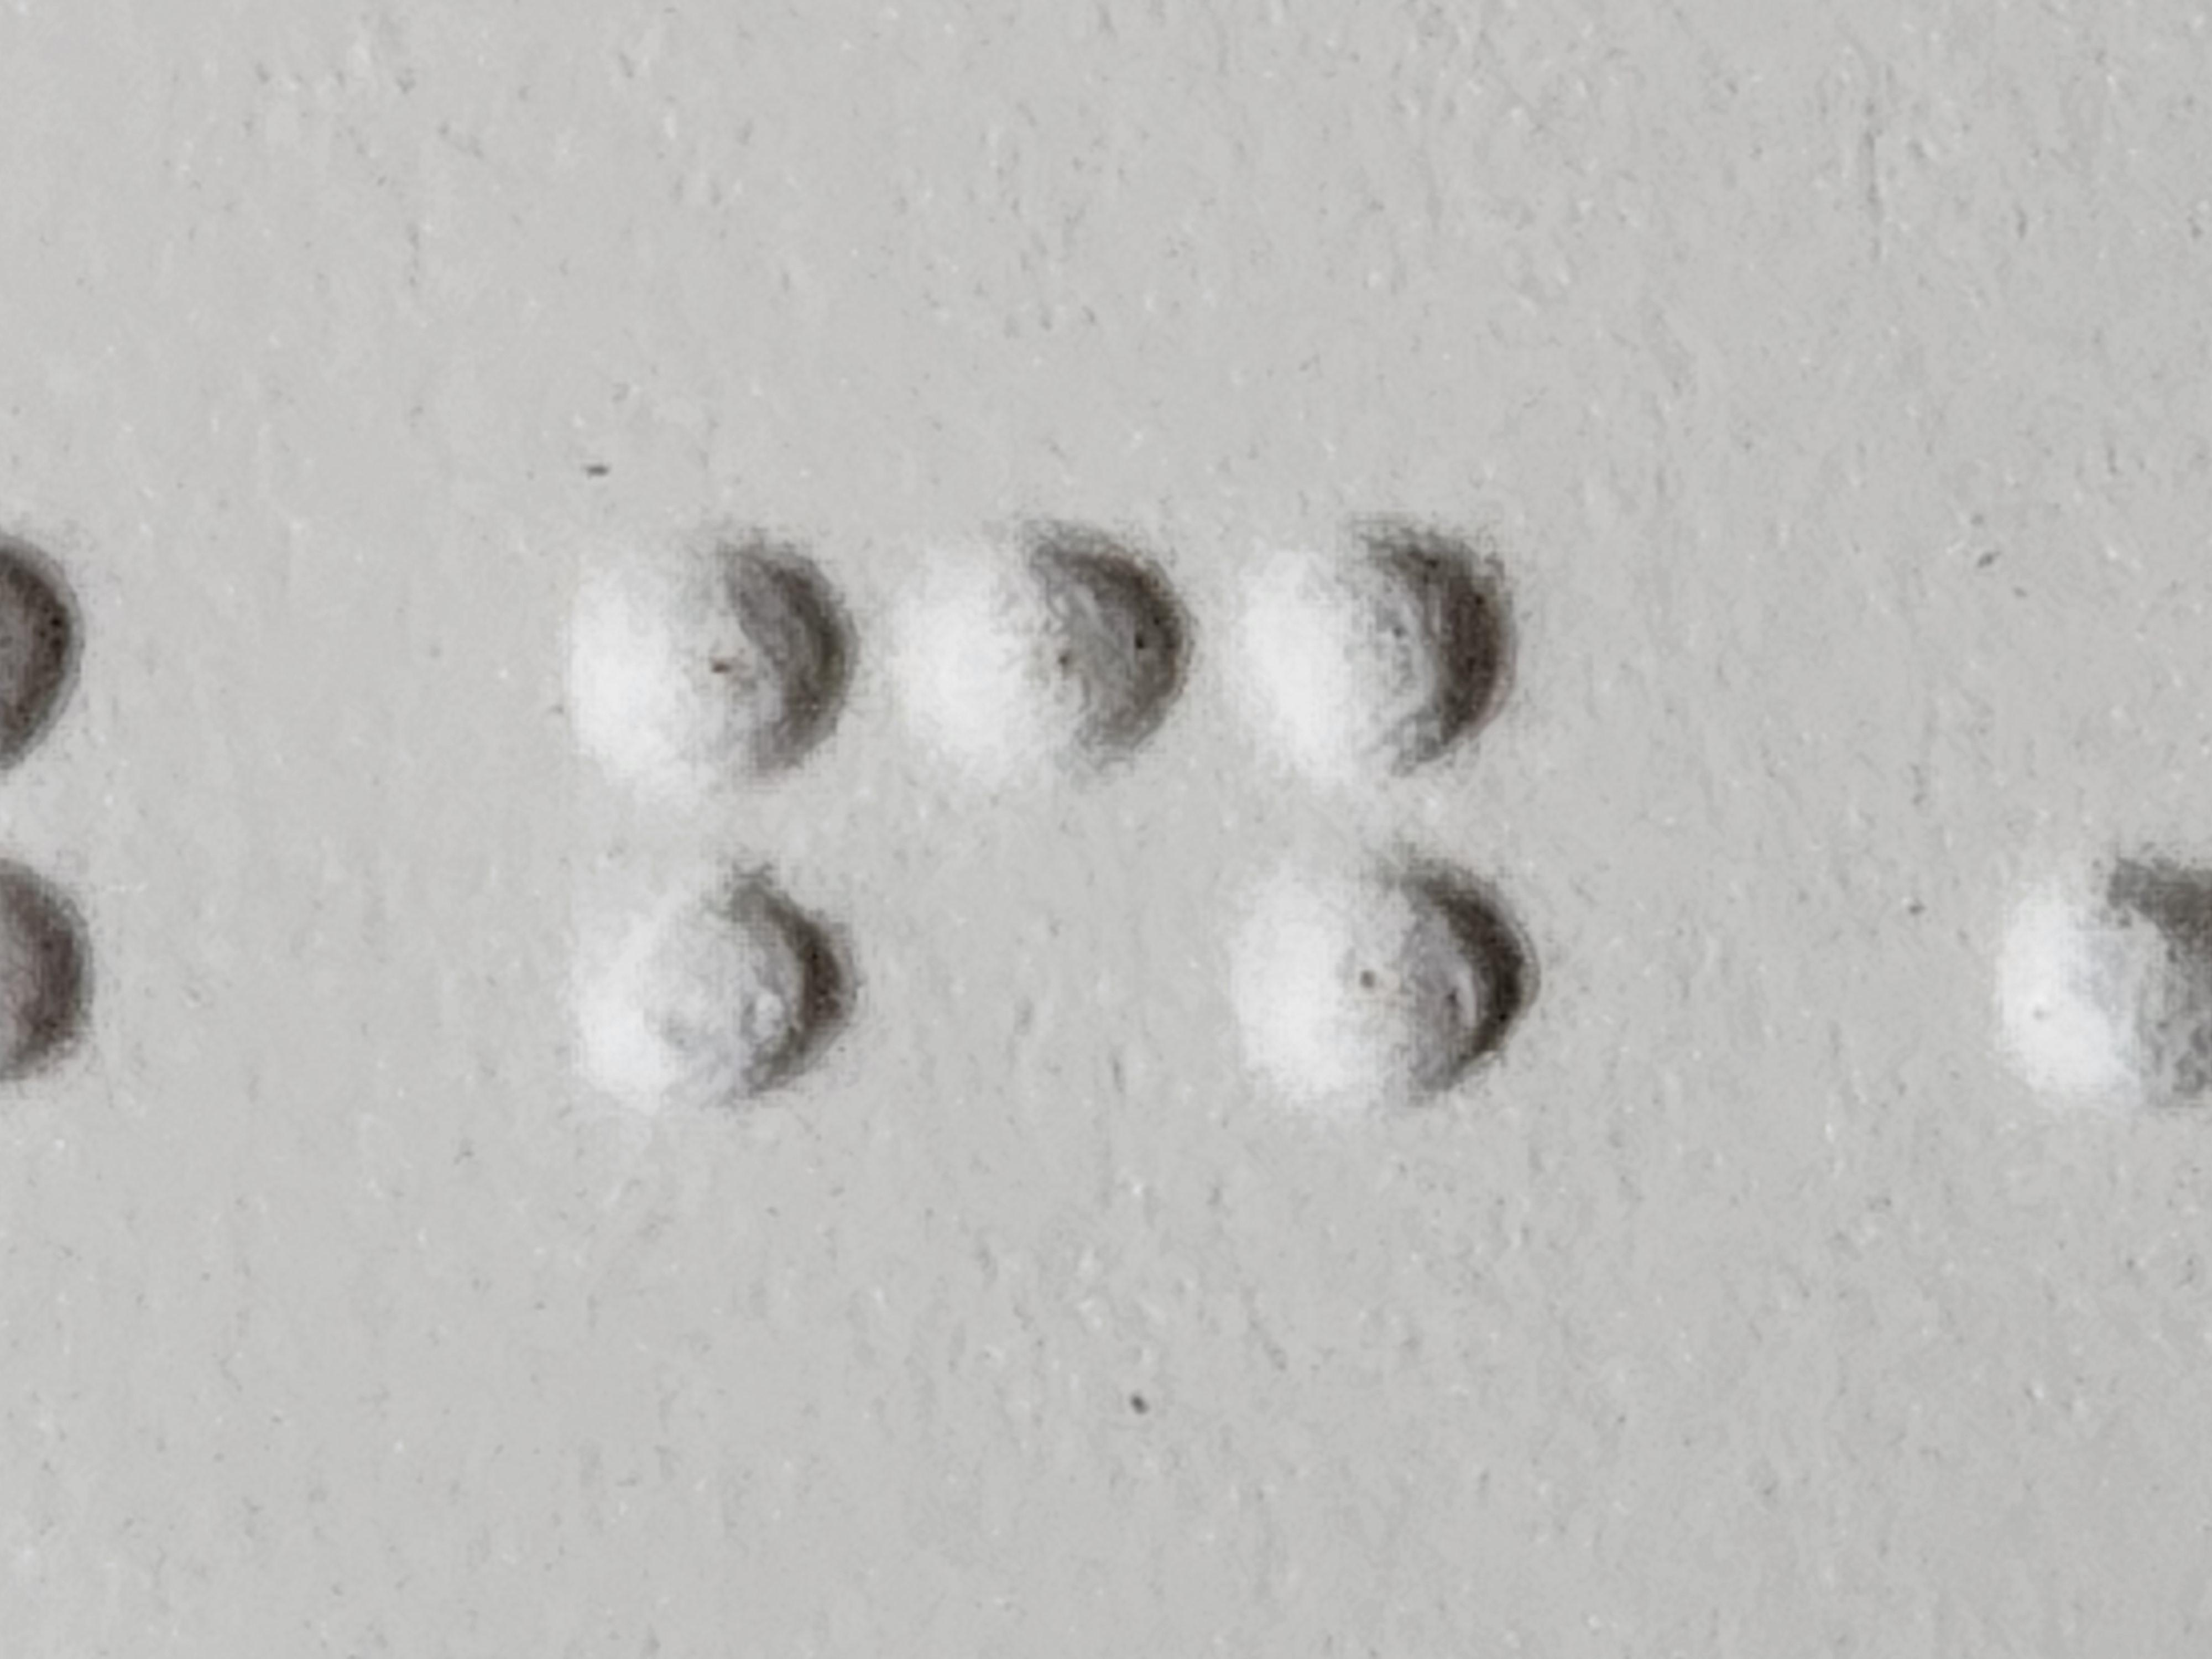one_cell_alphabet_yaman: (732, 432, 1529, 1147)
